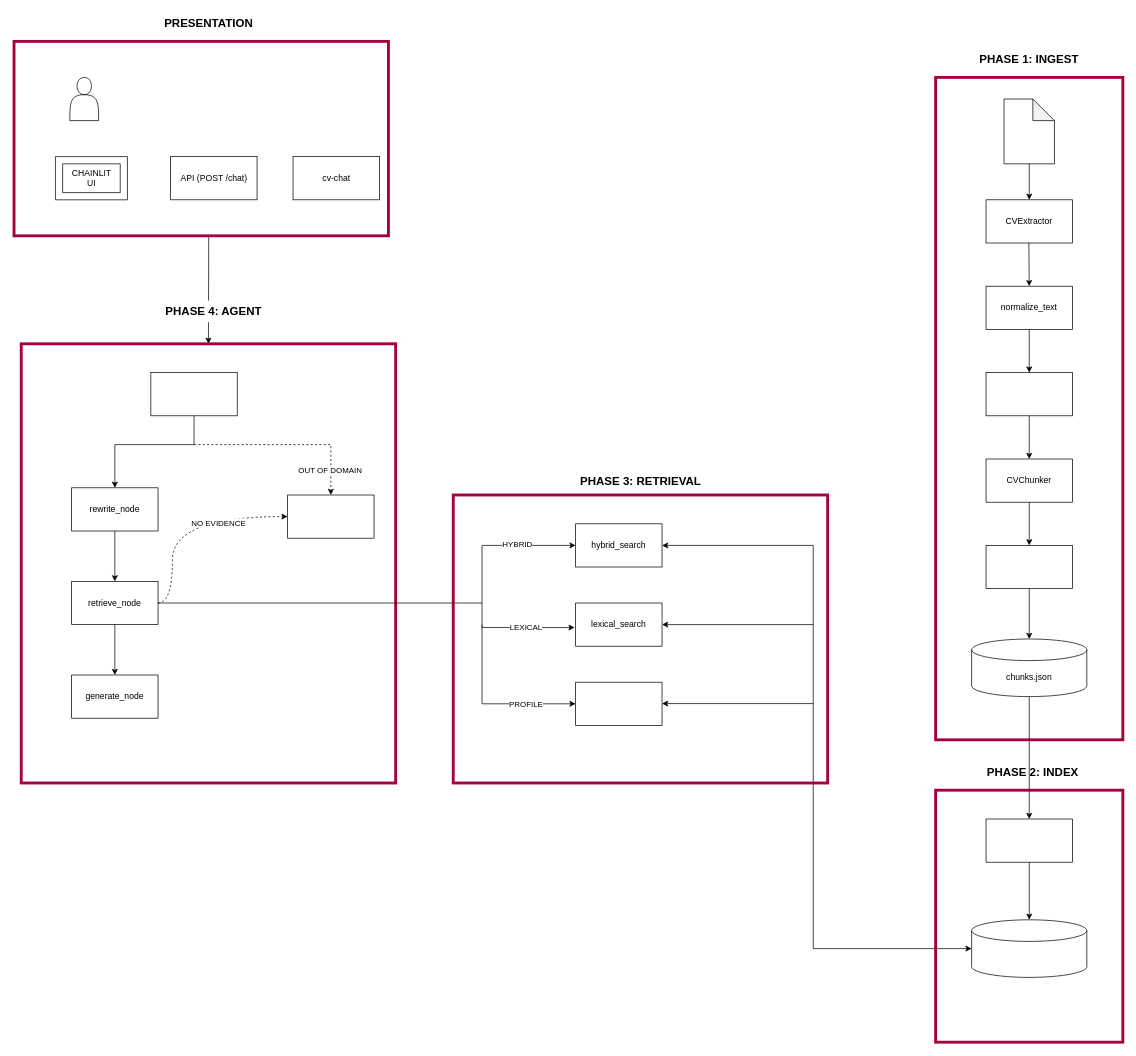
Image size: 1136x1056. Some labels were removed from this diagram. Each missing label, with the box of its shape:
ChunkContextualizer: (985, 545, 1072, 589)
CVs PDF: (1003, 98, 1054, 164)
CVSectioner: (985, 372, 1072, 416)
index_chunks: (985, 818, 1072, 862)
Qdrantt: cv_chunks: (971, 919, 1087, 977)
reject_node: (287, 494, 374, 538)
router_node: (150, 372, 237, 416)
scroll_by_candidate: (575, 681, 662, 725)
